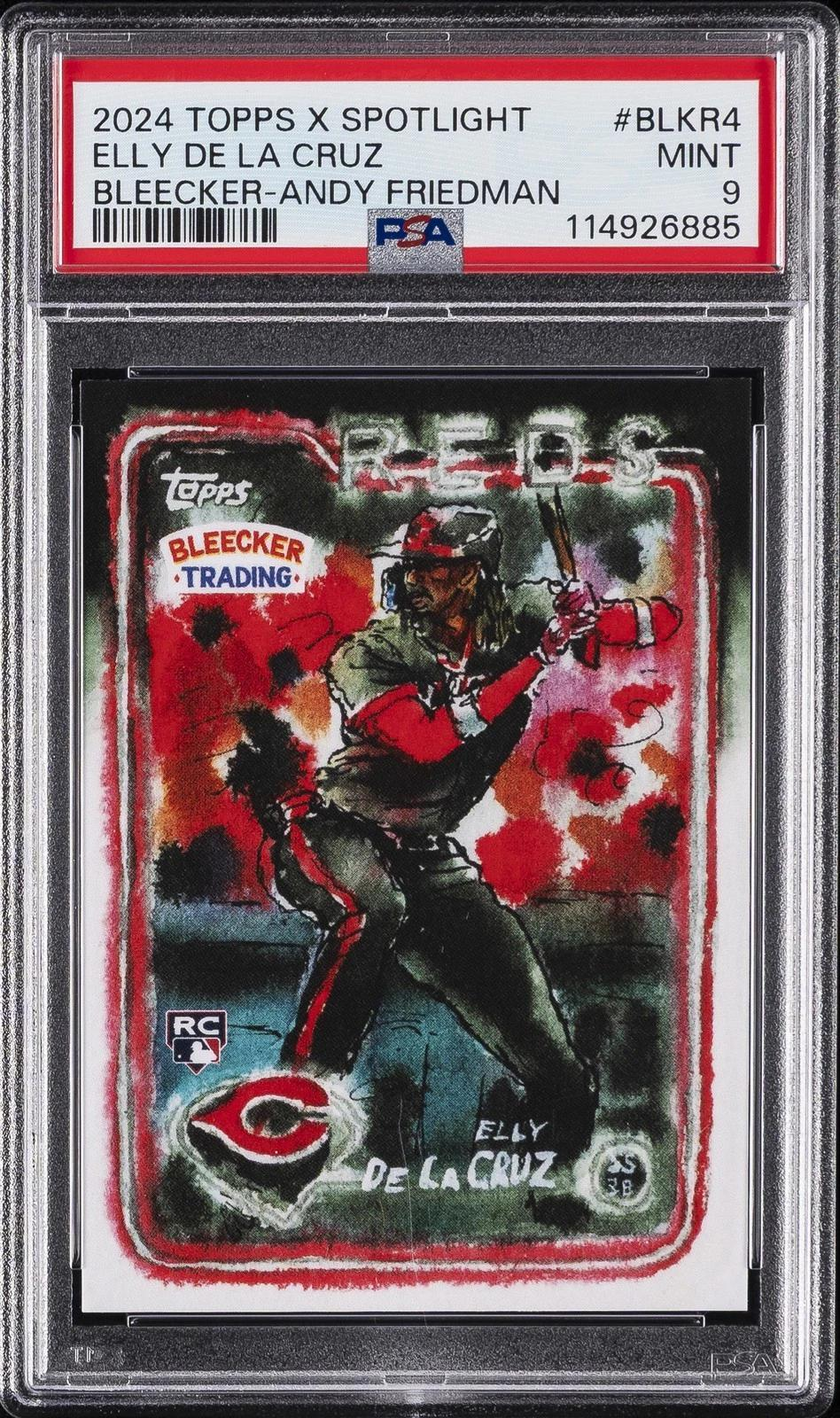card-2UtV: (79, 377, 753, 1314)
